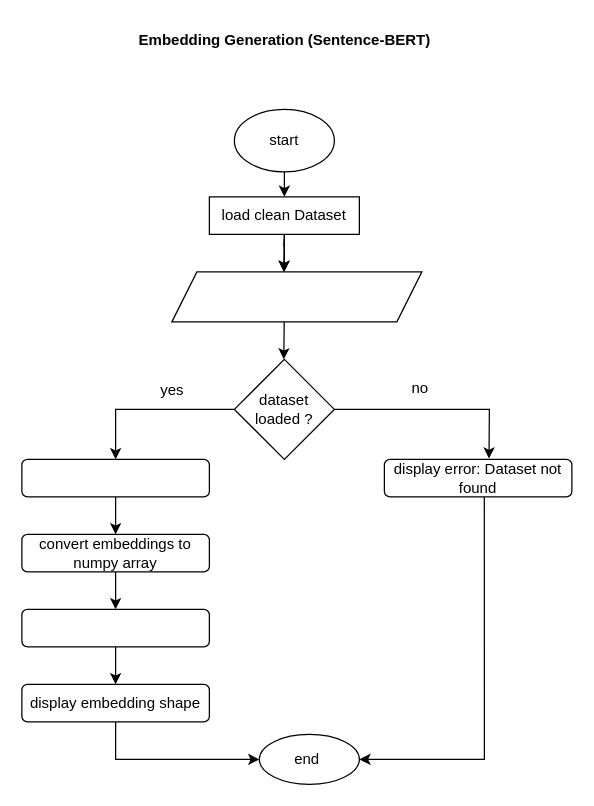
Some shapes in this 594 by 806 pixel diagram are drawn without their labels. The centre of each missing label's shape, as x and y in pixels:
"generate embeddings using model" belongs at (115,477).
"load sentence-BERT Model" belongs at (296,296).
"save embedding to .npy file" belongs at (115,627).
